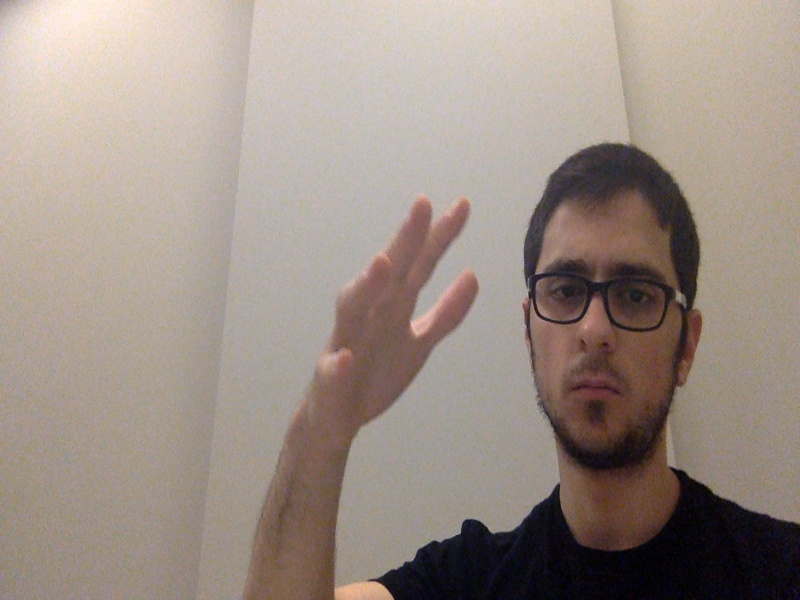5-hand: (308, 192, 484, 446)
